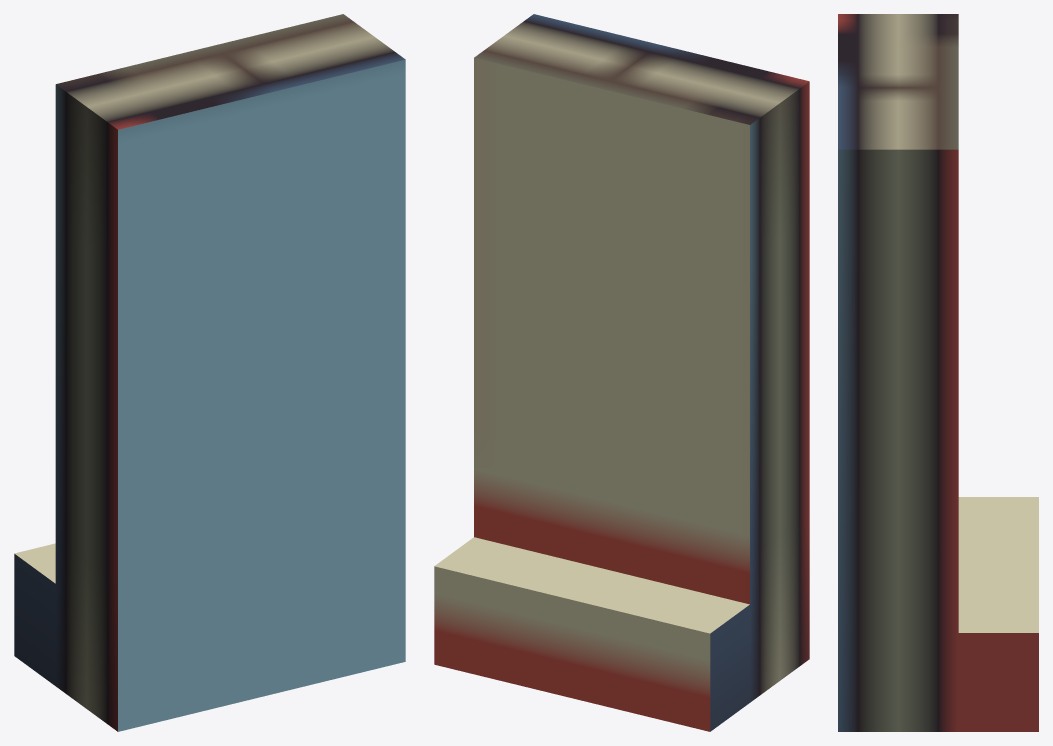
File: casa3_paret_default.fbx
The picture shows the model from 3 angles, left to right: view 1: azimuth 30°, elevation 25°; view 2: azimuth 150°, elevation 25°; view 3: azimuth 270°, elevation 25°; orthographic projection. The views are drawn at different scales.
Parts seen in each view (by area): view 1: Wall1.035; view 2: Wall1.035; view 3: Wall1.035.
Part boxes in pixels (bbox=[...]): Wall1.035: bbox=[14, 14, 405, 731]; Wall1.035: bbox=[434, 14, 809, 731]; Wall1.035: bbox=[838, 14, 1038, 731].
Size of the model in its own units: 200 by 400 by 125.
